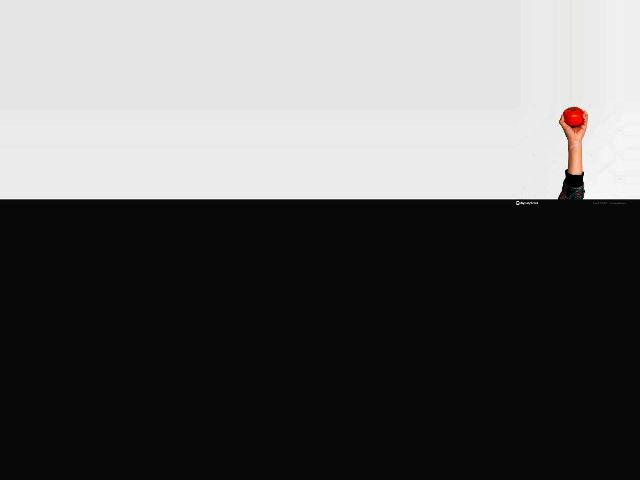tomato: (563, 106, 584, 127)
